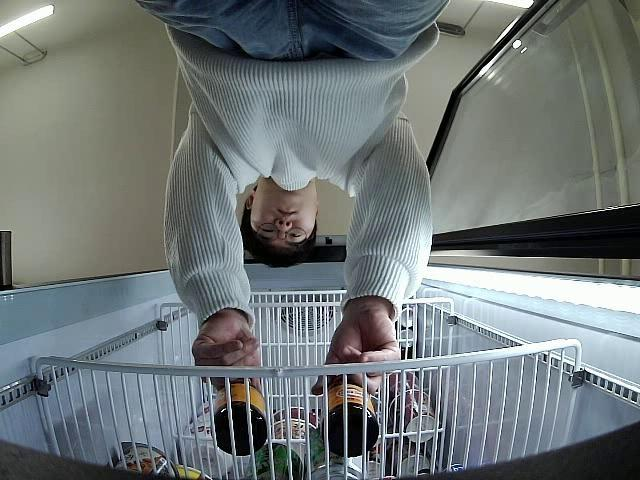17_vita500: (212, 374, 270, 456), (323, 375, 378, 456)
